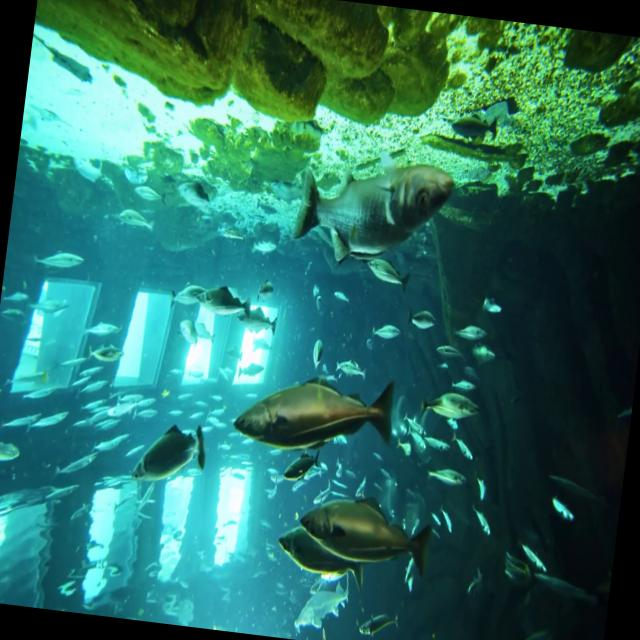fish: (276, 158, 460, 283), (227, 356, 410, 480), (285, 483, 437, 585), (274, 517, 366, 592), (123, 415, 211, 491), (196, 273, 256, 331), (413, 386, 480, 430), (158, 267, 208, 324), (360, 253, 420, 300), (22, 395, 76, 443), (234, 296, 285, 342), (350, 602, 403, 640), (82, 334, 126, 378), (400, 304, 441, 342), (0, 418, 25, 476), (476, 282, 508, 324), (453, 313, 487, 350), (305, 331, 335, 368), (430, 334, 464, 366)
